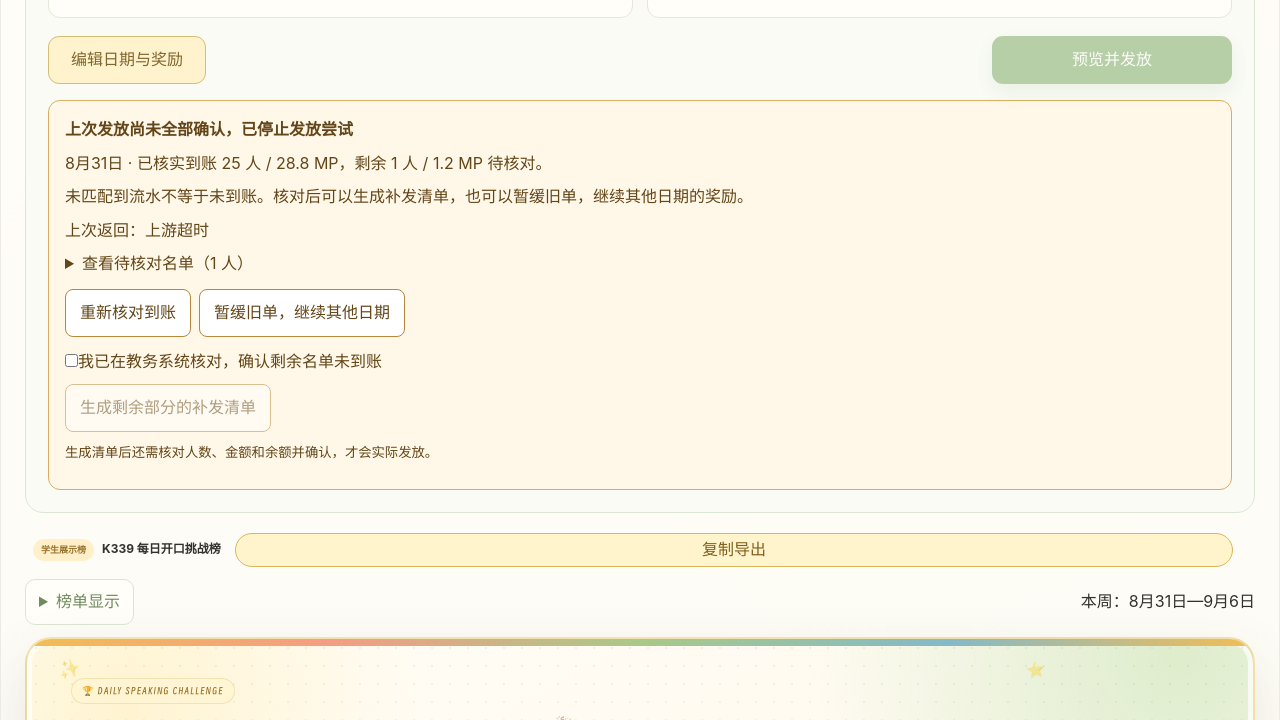
Test: SpeakingChallengeApp › shows pending choices, requires verification and opens a review plan without issuing
(page scrolled)
Check: the button "生成剩余部分的补发清单" is disabled, box x1=65 y1=384 x2=271 y2=432
Click the checkbox labelled "我已在教务系统核对，确认剩余名单未到账": (72, 360) x1=65 y1=354 x2=78 y2=366
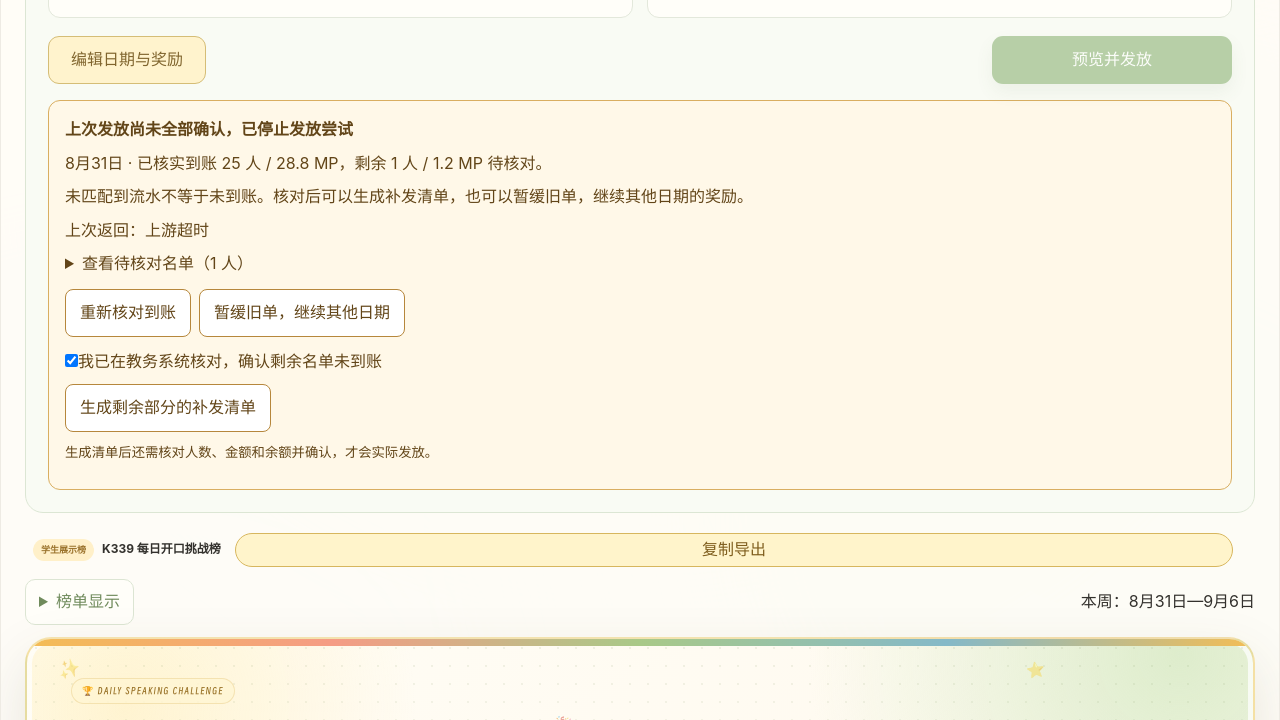
Check: the button "生成剩余部分的补发清单" is enabled
Click the button "生成剩余部分的补发清单": (168, 408) x1=65 y1=384 x2=271 y2=432
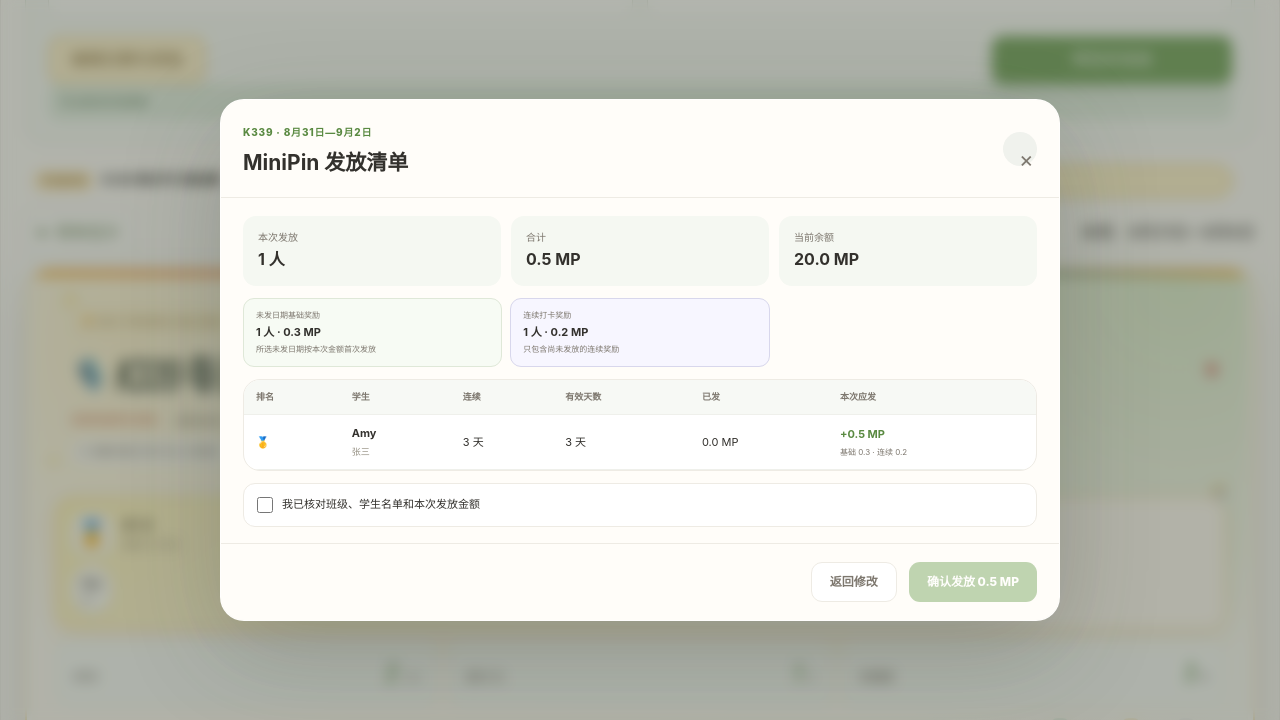
Check: the dialog is shown, box x1=220 y1=99 x2=1060 y2=621
